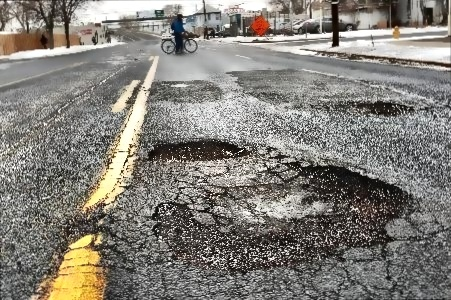pothole: (148, 158, 416, 273), (143, 137, 251, 162), (340, 99, 413, 117)
